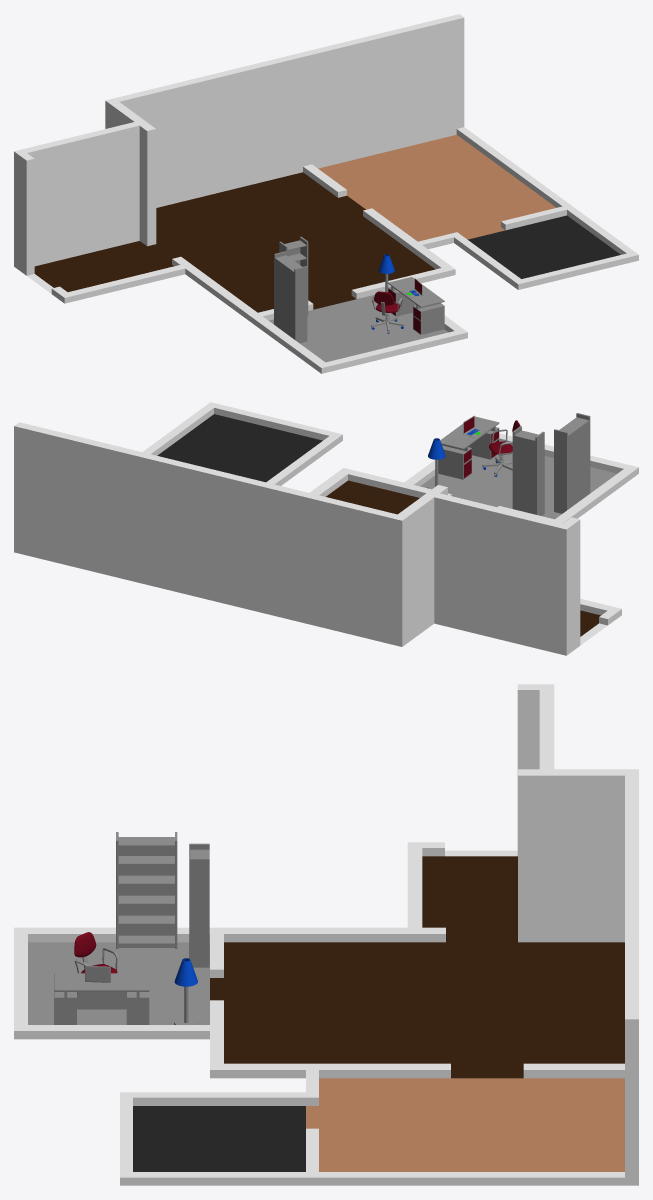
The model's file is Salle_03.FBX.
The picture shows the model from 3 angles, top to bottom: view 1: azimuth 30°, elevation 25°; view 2: azimuth 150°, elevation 25°; view 3: azimuth 270°, elevation 25°; orthographic projection. The views are drawn at different scales.
Parts seen in each view (by area): view 1: Piece_03, biblio_195X100X32, bureau_01, central_pieds, biblio_195X60X32; view 2: Piece_03, biblio_195X100X32, biblio_195X60X32, bureau_01, central_pieds, Lampe_Chevet_004; view 3: Piece_03, biblio_195X100X32, bureau_01, biblio_195X60X32, Lampe_Chevet_004, central_pieds.
Part boxes in pixels (left/top/right/bottom): Piece_03: left=14, top=14, right=638, bottom=373; biblio_195X100X32: left=274, top=251, right=307, bottom=343; bureau_01: left=388, top=277, right=444, bottom=334; central_pieds: left=371, top=291, right=404, bottom=333; biblio_195X60X32: left=279, top=236, right=308, bottom=316; Piece_03: left=14, top=402, right=638, bottom=655; biblio_195X100X32: left=554, top=413, right=590, bottom=513; biblio_195X60X32: left=512, top=426, right=544, bottom=515; bureau_01: left=438, top=416, right=499, bottom=479; central_pieds: left=482, top=420, right=520, bottom=476; Lampe_Chevet_004: left=427, top=438, right=445, bottom=489; Piece_03: left=14, top=684, right=638, bottom=1185; biblio_195X100X32: left=116, top=832, right=177, bottom=948; bureau_01: left=54, top=973, right=149, bottom=1024; biblio_195X60X32: left=189, top=843, right=209, bottom=967; Lampe_Chevet_004: left=174, top=958, right=198, bottom=1024; central_pieds: left=74, top=932, right=118, bottom=1009.
Bounding box in the file's own units: 1294 × 300 × 1020.
